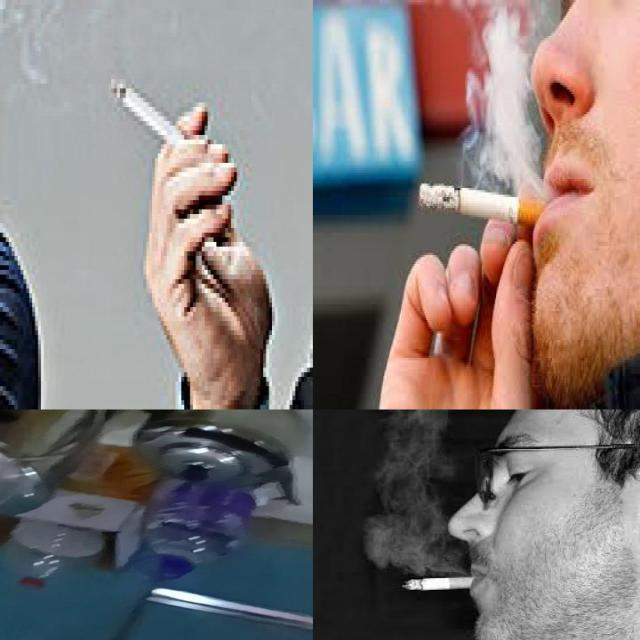cigarette: (110, 79, 196, 159), (418, 182, 558, 228), (402, 575, 485, 591)
